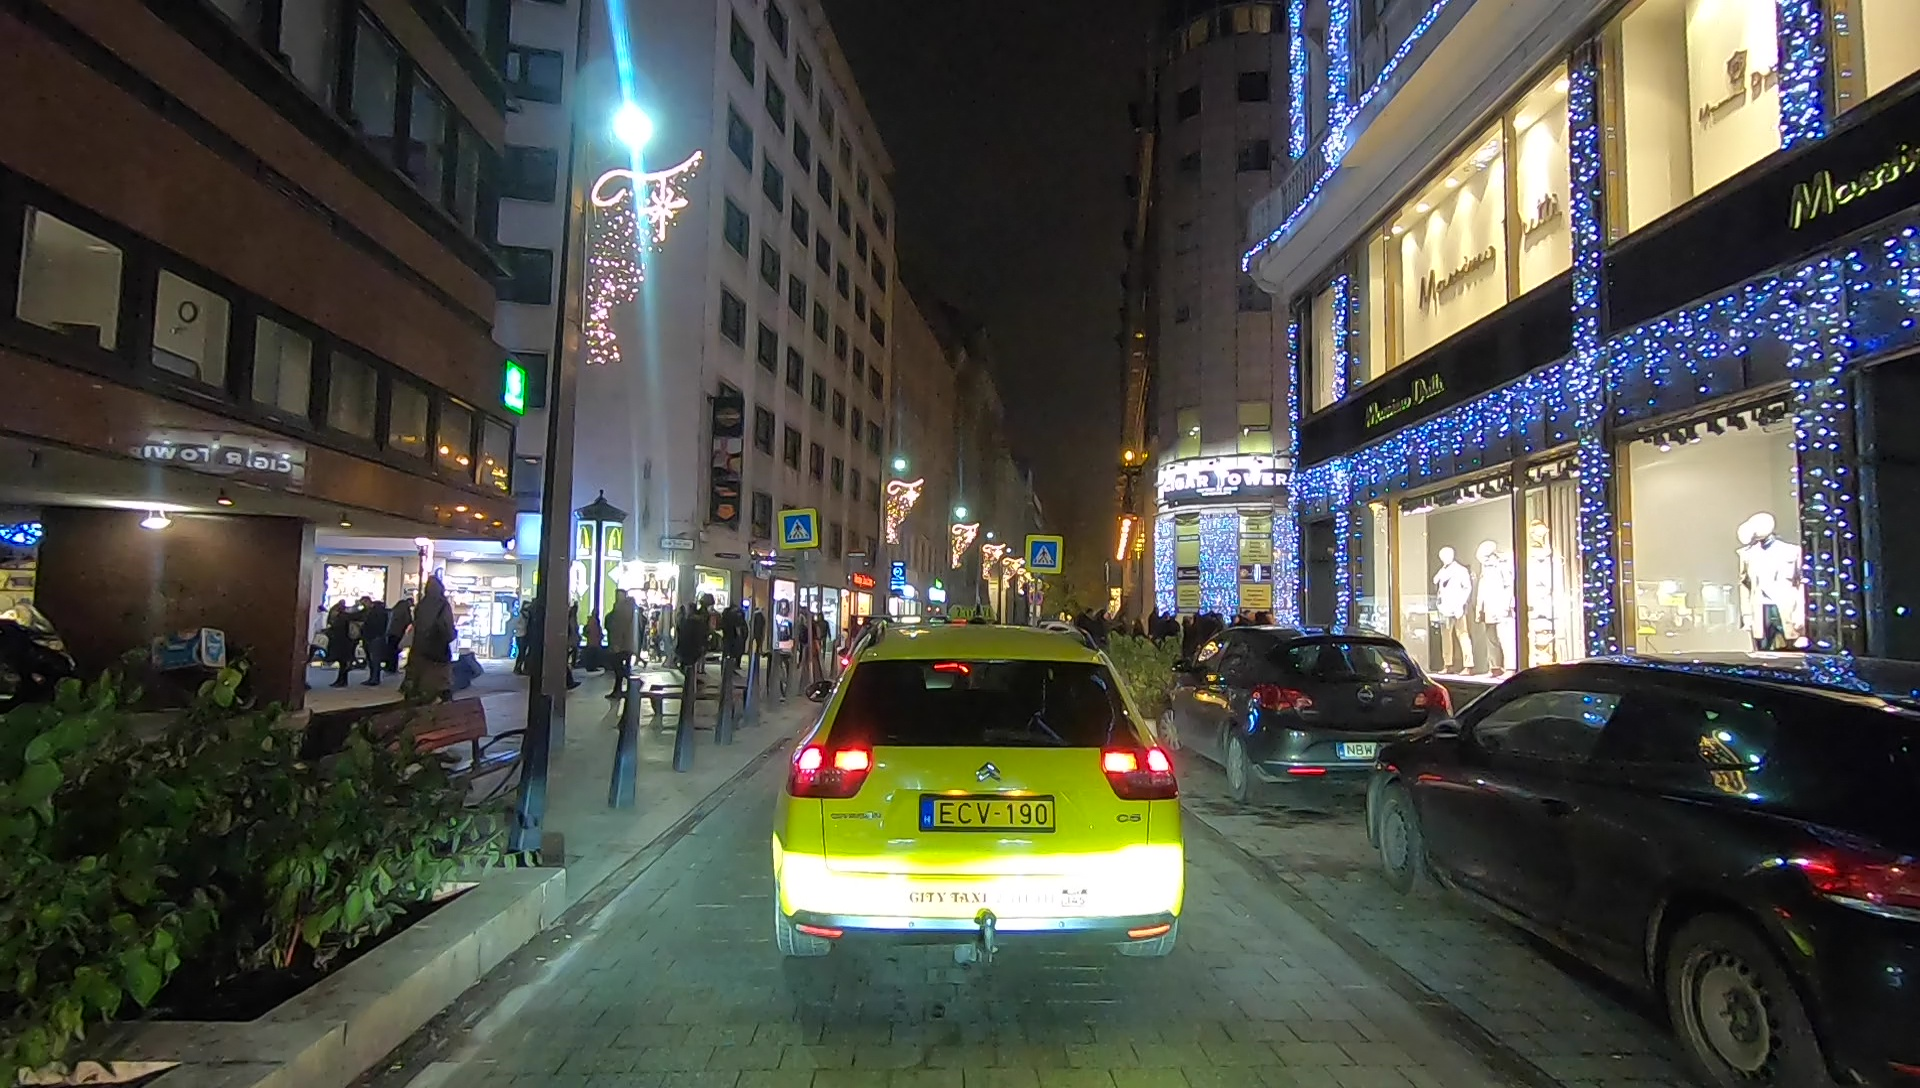person: (404, 578, 454, 717), (608, 591, 641, 700), (325, 600, 356, 691), (678, 602, 704, 689), (721, 600, 745, 680), (362, 597, 384, 687), (1091, 608, 1108, 682), (752, 610, 765, 693), (586, 611, 601, 669), (1160, 611, 1176, 663), (1191, 611, 1202, 674)
